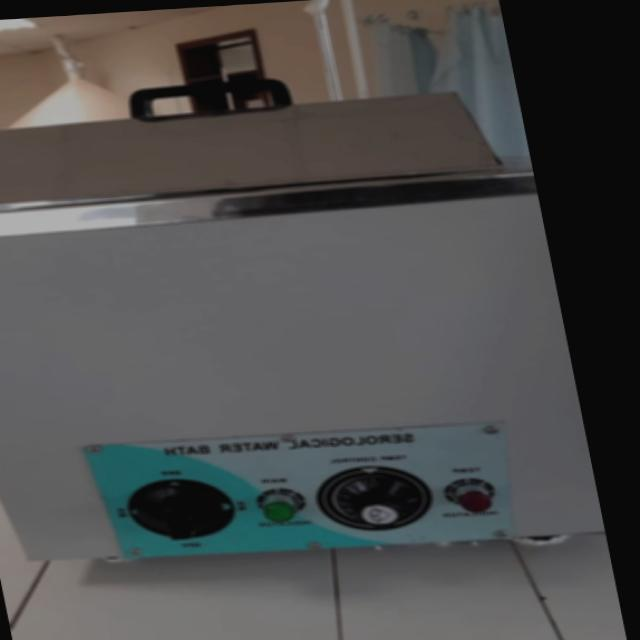Water-Oil Bath: (0, 86, 579, 590)
